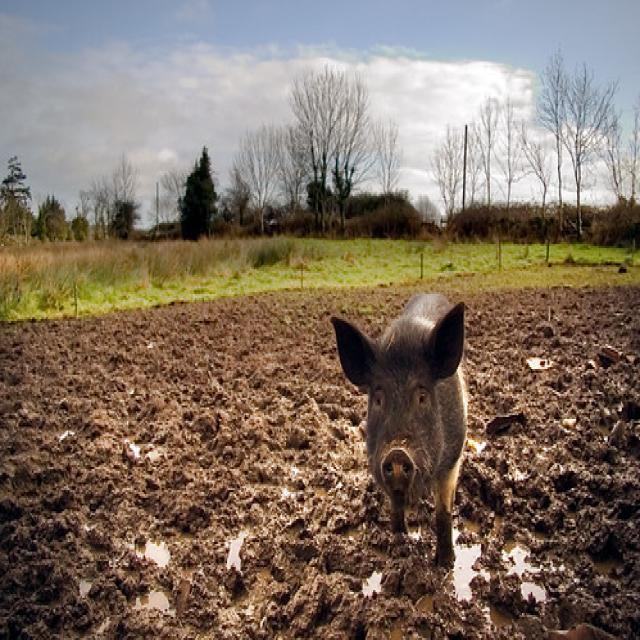boar: (316, 272, 529, 580)
